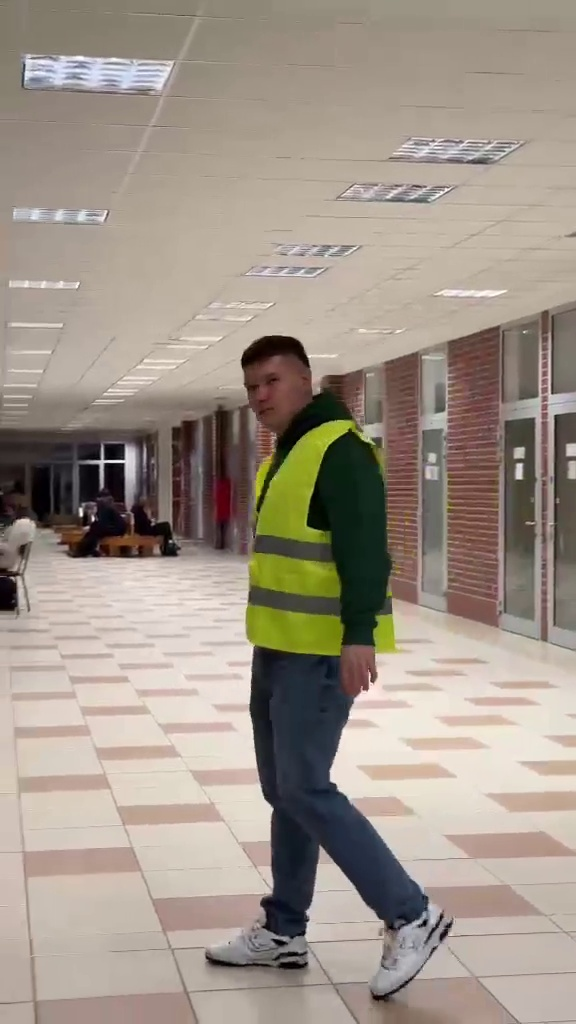vest: (211, 328, 462, 1000)
